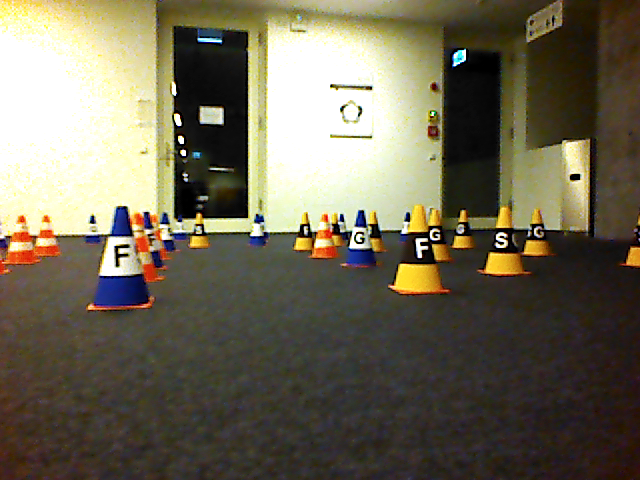bluecone: (88, 207, 144, 310)
yellowcone: (388, 205, 431, 296), (482, 206, 529, 277), (521, 210, 556, 258)
